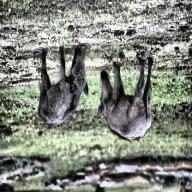boar: (22, 41, 91, 130), (97, 52, 159, 143)
